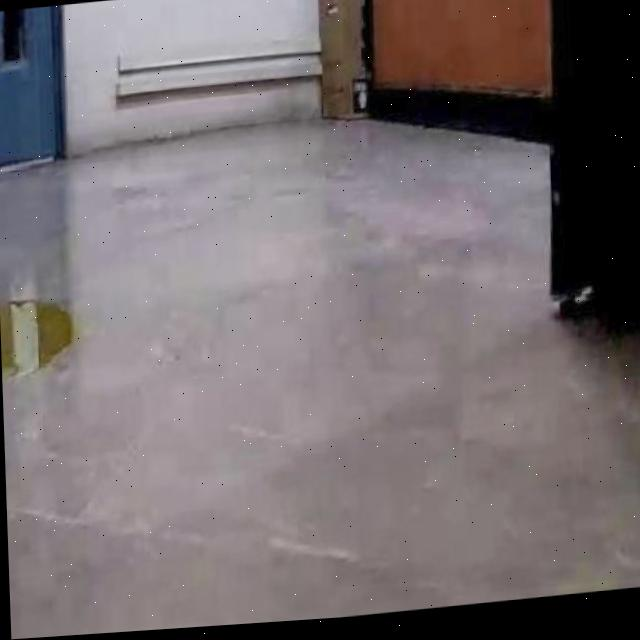spillage: (0, 302, 74, 381)
